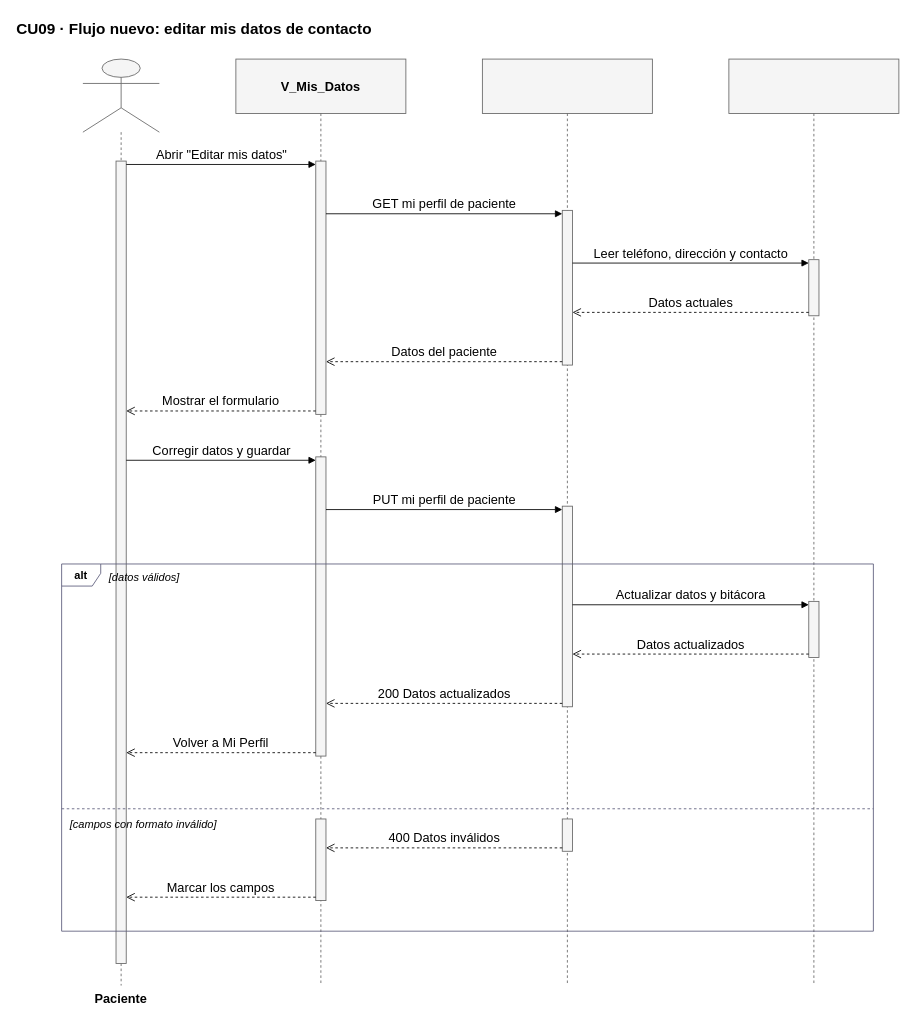
Some shapes in this 914 by 1021 pixel diagram are drawn without their labels. The box of each missing label's shape, as (x1, y1, x2, y2) in pixels:
Base de datos C_MYSQL: (728, 58, 899, 986)
Servidor C_API_REST y controladores: (482, 58, 652, 986)
